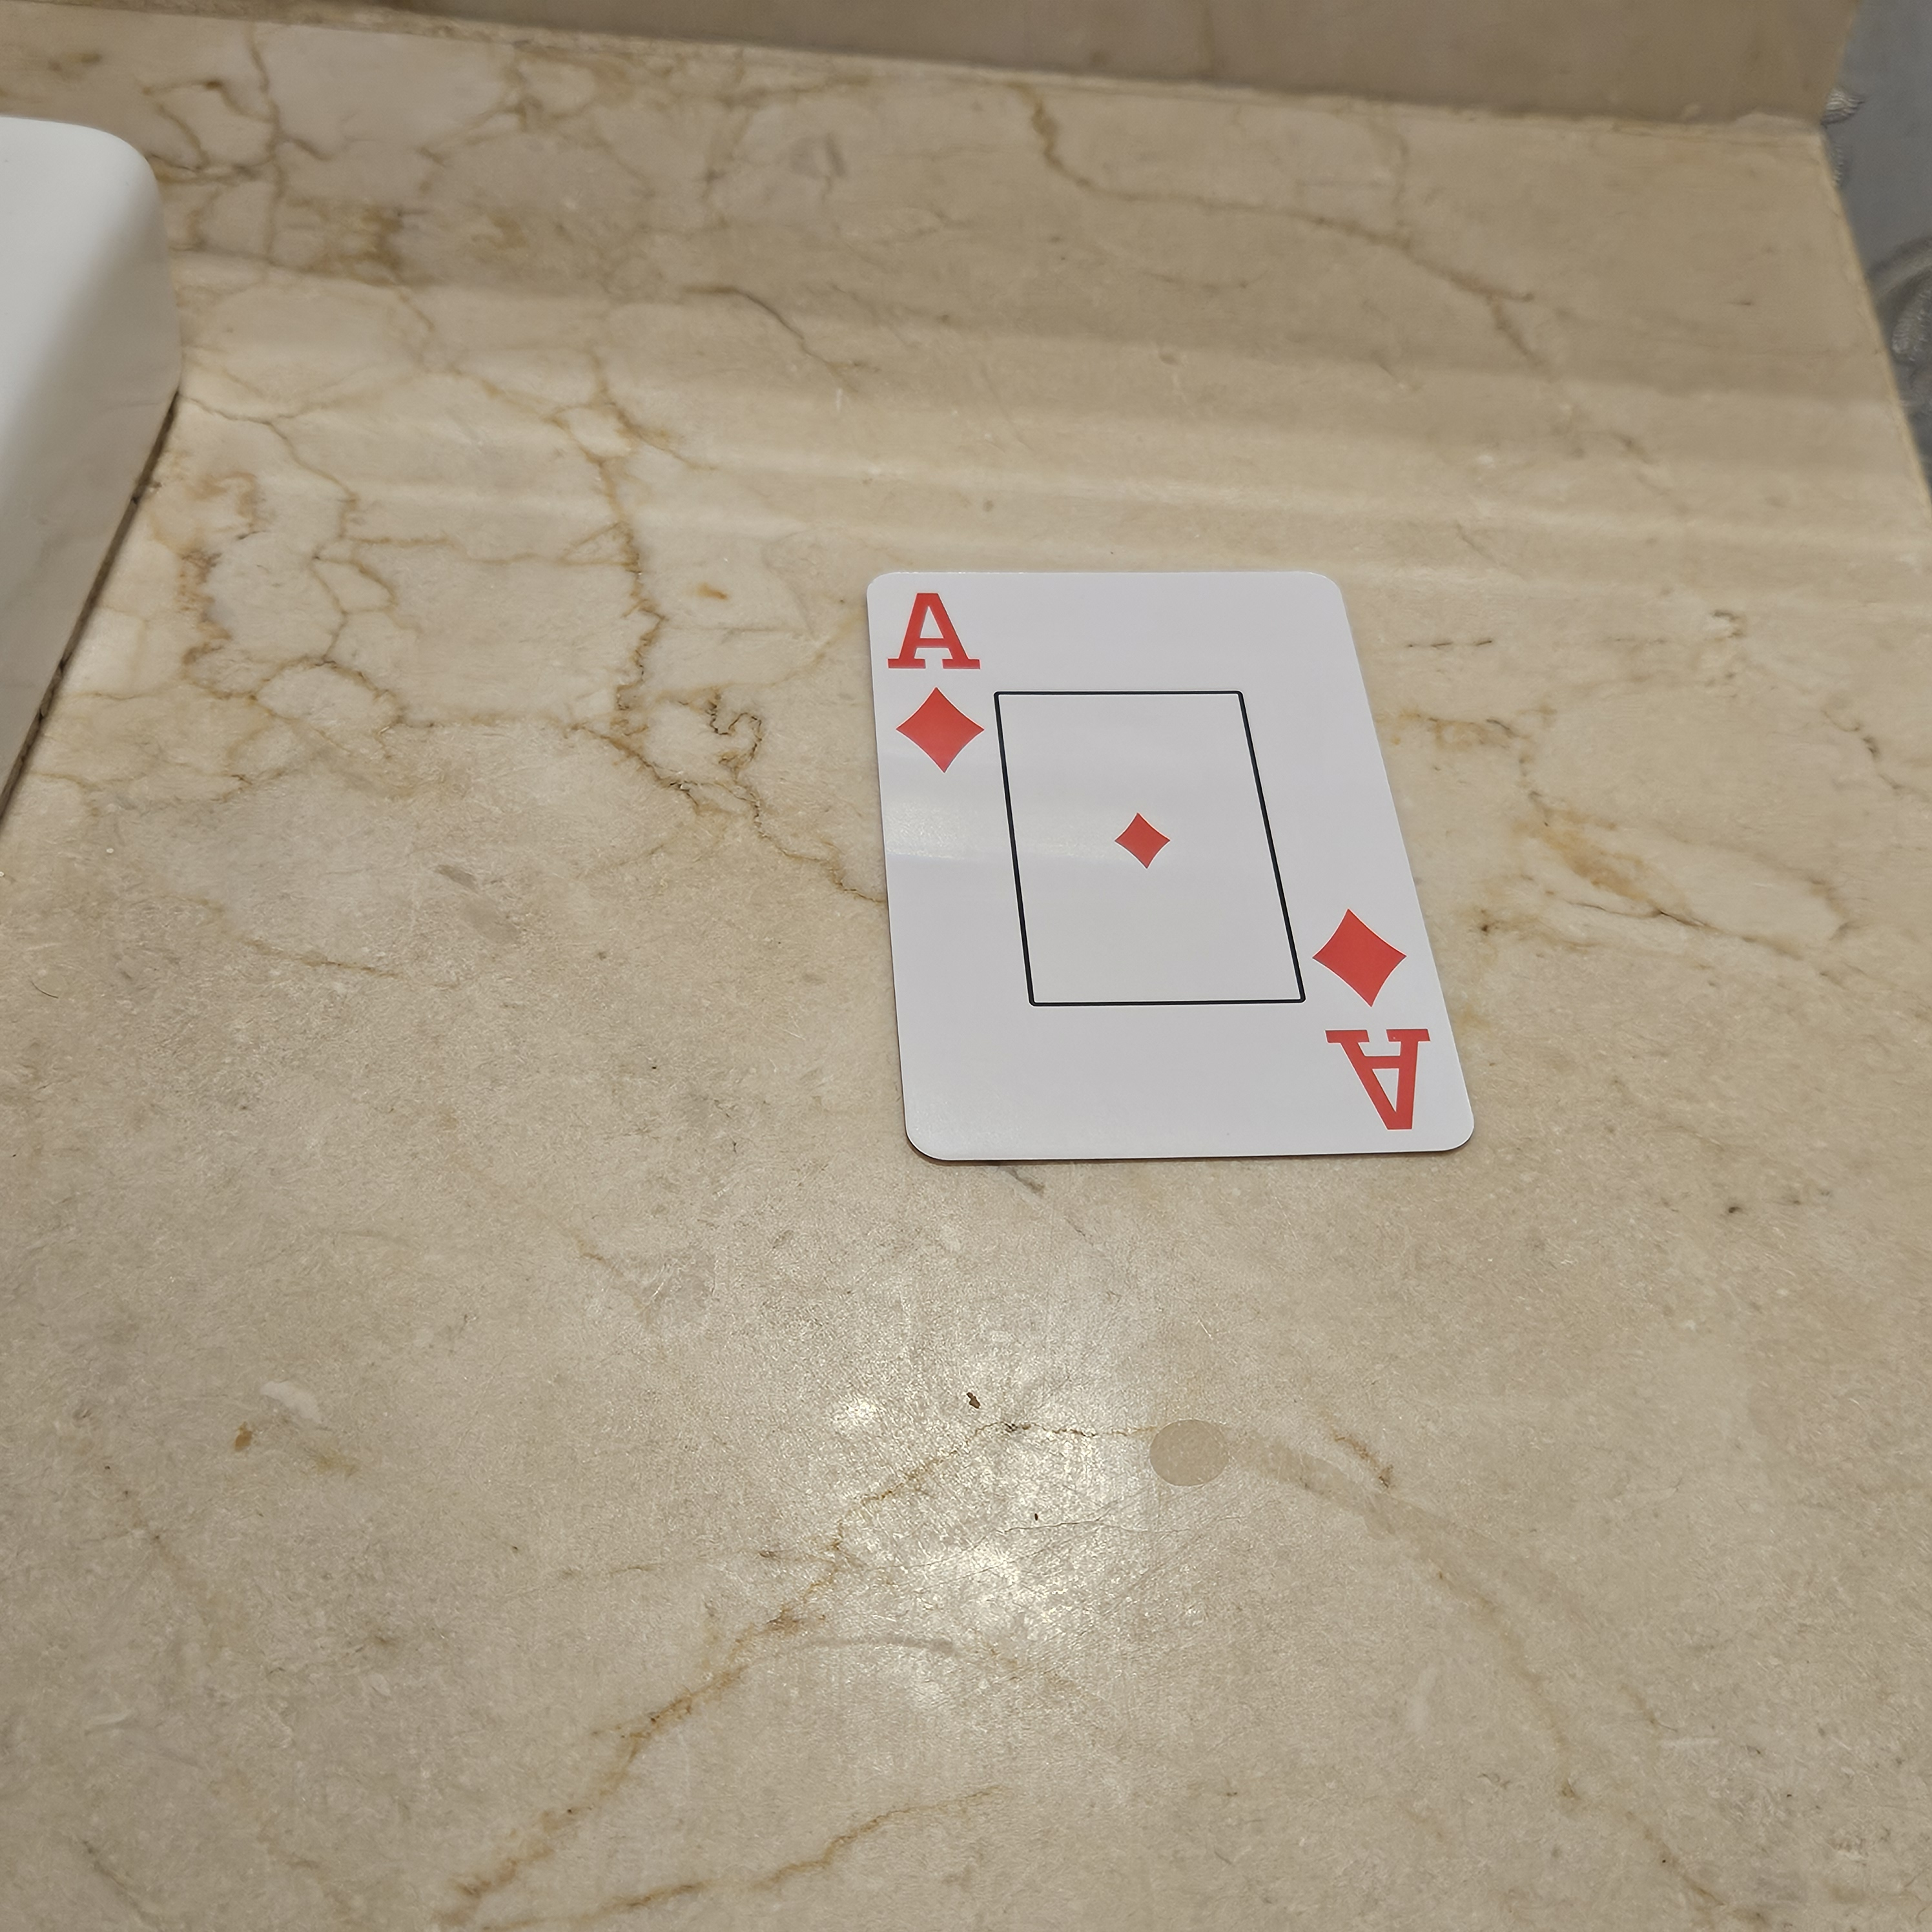AO: (1297, 897, 1472, 1155), (870, 580, 994, 796)
